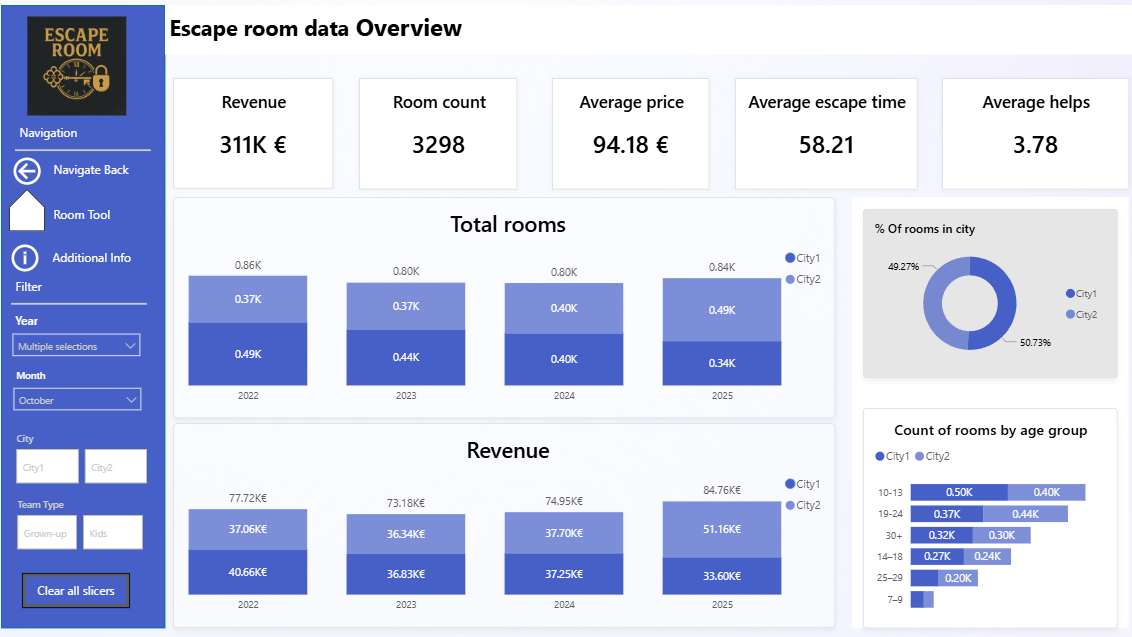

The dashboard page shown, as its layout file describes it:
{"tool":"powerbi","page":{"name":"Main Page","canvas":[1280,720],"ordinal":0},"visuals":[{"type":"shape","box":[5,8.8,182.5,692.5],"z":0},{"type":"card","title":"Revenue","fields":{"Values":["Sum(full_data.Revenue)"]},"box":[196.2,90,177.5,122.5],"z":1000},{"type":"textbox","box":[187.5,8.8,1092.5,55],"z":2000},{"type":"columnChart","title":"Total rooms","fields":{"Category":["full_data.Data.Variation.Date Hierarchy.Year","full_data.Data.Variation.Date Hierarchy.Quarter","full_data.Data.Variation.Date Hierarchy.Month","full_data.Data.Variation.Date Hierarchy.Day"],"Series":["full_data.City"],"Y":["full_data.Count_Kambarys"]},"box":[196.2,222.5,736.2,246.2],"z":3000},{"type":"shape","box":[951.2,222.5,307.5,478.8],"z":4000},{"type":"donutChart","title":"% Of rooms in city","fields":{"Y":["full_data.City count"],"Category":["full_data.City"]},"box":[963.8,235,282.5,187.5],"z":5000},{"type":"barChart","title":"Count of rooms by age group","fields":{"Category":["full_data.Age Group"],"Y":["full_data.Count_Kambarys"],"Series":["full_data.City"]},"box":[963.8,456.2,282.5,245],"z":6000},{"type":"shape","box":[21.3,156.8,151.1,27.1],"z":7000},{"type":"shape","box":[16.8,319.2,151.1,44],"z":8000},{"type":"textbox","box":[16.8,307.9,92.5,28.2],"z":9000},{"type":"textbox","box":[21.3,136.5,92.5,29.3],"z":10000},{"type":"slicer","fields":{"Values":["full_data.Data.Variation.Date Hierarchy.Year"]},"box":[13.4,349.6,152.2,56.4],"z":11000},{"type":"slicer","fields":{"Values":["full_data.Data.Variation.Date Hierarchy.Month"]},"box":[14.5,412.8,152.2,56.4],"z":12000},{"type":"advancedSlicerVisual","title":"City","fields":{"Values":["full_data.City"]},"box":[17.9,482.7,156.8,63.2],"z":13000},{"type":"advancedSlicerVisual","title":"Team Type","fields":{"Values":["full_data.TeamType"]},"box":[19,556,150,63.2],"z":14000},{"type":"card","title":"Room count","fields":{"Values":["full_data.Count_Kambarys"]},"box":[403.8,90,176.2,123.8],"z":15000},{"type":"card","title":"Average price","fields":{"Values":["full_data.Average Price"]},"box":[617.5,90,175,123.8],"z":16000},{"type":"card","title":"Average escape time","fields":{"Values":["Avg(full_data.Escape Time)"]},"box":[821.2,90,202.5,123.8],"z":17000},{"type":"card","title":"Average helps","fields":{"Values":["Avg(full_data.Helps)"]},"box":[1051.2,90,207.5,123.8],"z":18000},{"type":"actionButton","box":[13.9,172.8,46.6,40.3],"z":19000},{"type":"actionButton","box":[12.6,270,45.6,40],"z":20000},{"type":"textbox","box":[58.7,178.2,120.9,28.7],"z":21000},{"type":"textbox","box":[58.7,227.5,120.9,28.7],"z":22000},{"type":"textbox","box":[58.2,275.6,121.1,27.8],"z":23000},{"type":"actionButton","box":[29.1,640.3,120,38.5],"z":24000},{"type":"pageNavigator","box":[14.9,213.3,40,47.8],"z":26000},{"type":"image","box":[27.5,16.2,123.8,120],"z":27000},{"type":"columnChart","title":"Revenue","fields":{"Category":["full_data.Data.Variation.Date Hierarchy.Year","full_data.Data.Variation.Date Hierarchy.Quarter","full_data.Data.Variation.Date Hierarchy.Month","full_data.Data.Variation.Date Hierarchy.Day"],"Series":["full_data.City"],"Y":["Sum(full_data.Revenue)"]},"box":[196.2,473.8,736.2,227.5],"z":28000}]}

Visuals, with their boxes on the page's 1280x720 design canvas (x1, y1, x2, y2). These are canvas units, not pixel positions in the 1132x637 screenshot, which may show the page scaled, cropped or inside an application window:
shape: BBox(5, 9, 188, 701)
"Revenue" card: BBox(196, 90, 374, 212)
textbox: BBox(188, 9, 1280, 64)
"Total rooms" columnChart: BBox(196, 222, 932, 469)
shape: BBox(951, 222, 1259, 701)
"% Of rooms in city" donutChart: BBox(964, 235, 1246, 422)
"Count of rooms by age group" barChart: BBox(964, 456, 1246, 701)
shape: BBox(21, 157, 172, 184)
shape: BBox(17, 319, 168, 363)
textbox: BBox(17, 308, 109, 336)
textbox: BBox(21, 136, 114, 166)
slicer - full_data.Data.Variation.Date Hierarchy.Year: BBox(13, 350, 166, 406)
slicer - full_data.Data.Variation.Date Hierarchy.Month: BBox(14, 413, 167, 469)
"City" advancedSlicerVisual: BBox(18, 483, 175, 546)
"Team Type" advancedSlicerVisual: BBox(19, 556, 169, 619)
"Room count" card: BBox(404, 90, 580, 214)
"Average price" card: BBox(618, 90, 792, 214)
"Average escape time" card: BBox(821, 90, 1024, 214)
"Average helps" card: BBox(1051, 90, 1259, 214)
actionButton: BBox(14, 173, 60, 213)
actionButton: BBox(13, 270, 58, 310)
textbox: BBox(59, 178, 180, 207)
textbox: BBox(59, 228, 180, 256)
textbox: BBox(58, 276, 179, 303)
actionButton: BBox(29, 640, 149, 679)
pageNavigator: BBox(15, 213, 55, 261)
image: BBox(28, 16, 151, 136)
"Revenue" columnChart: BBox(196, 474, 932, 701)
